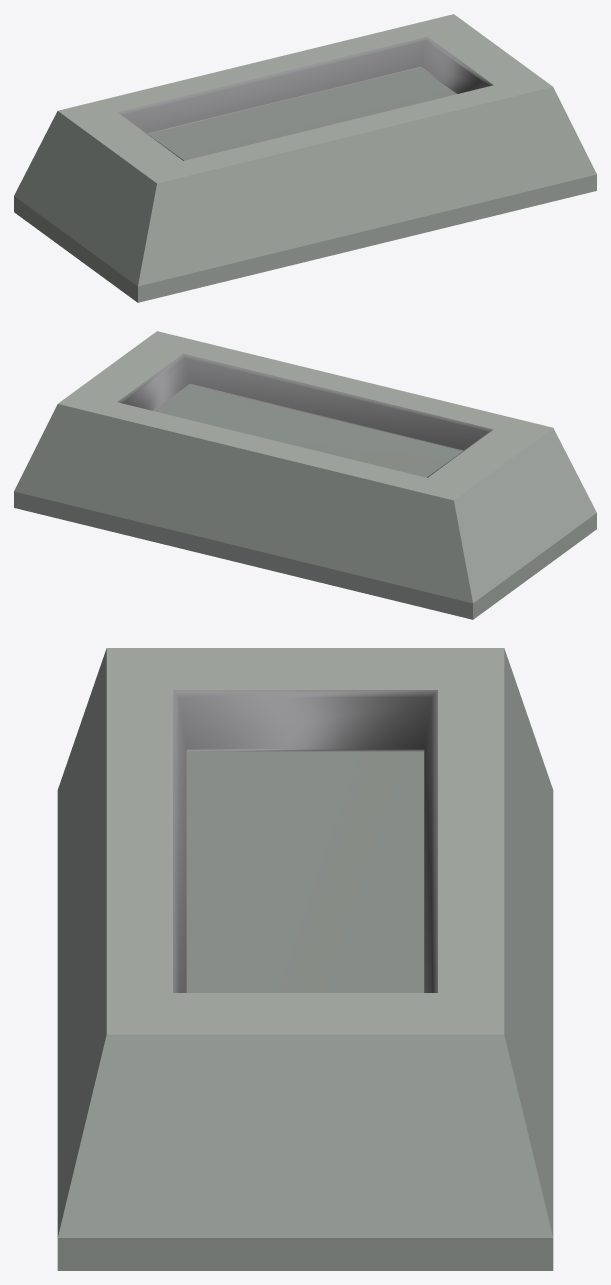
File: Ingot.fbx
The picture shows the model from 3 angles, top to bottom: view 1: azimuth 30°, elevation 25°; view 2: azimuth 150°, elevation 25°; view 3: azimuth 270°, elevation 25°; orthographic projection. The views are drawn at different scales.
Visible parts, largest first — view 1: SM_Prop_GoldBar_02; view 2: SM_Prop_GoldBar_02; view 3: SM_Prop_GoldBar_02.
Boxes of the visible parts, x1,y1,x2,y2 form: SM_Prop_GoldBar_02: (14,14,596,302); SM_Prop_GoldBar_02: (14,331,596,619); SM_Prop_GoldBar_02: (57,648,553,1270).
Size of the model in its own units: 36.14 by 7.73 by 16.89.
1 material, 1 textured.
